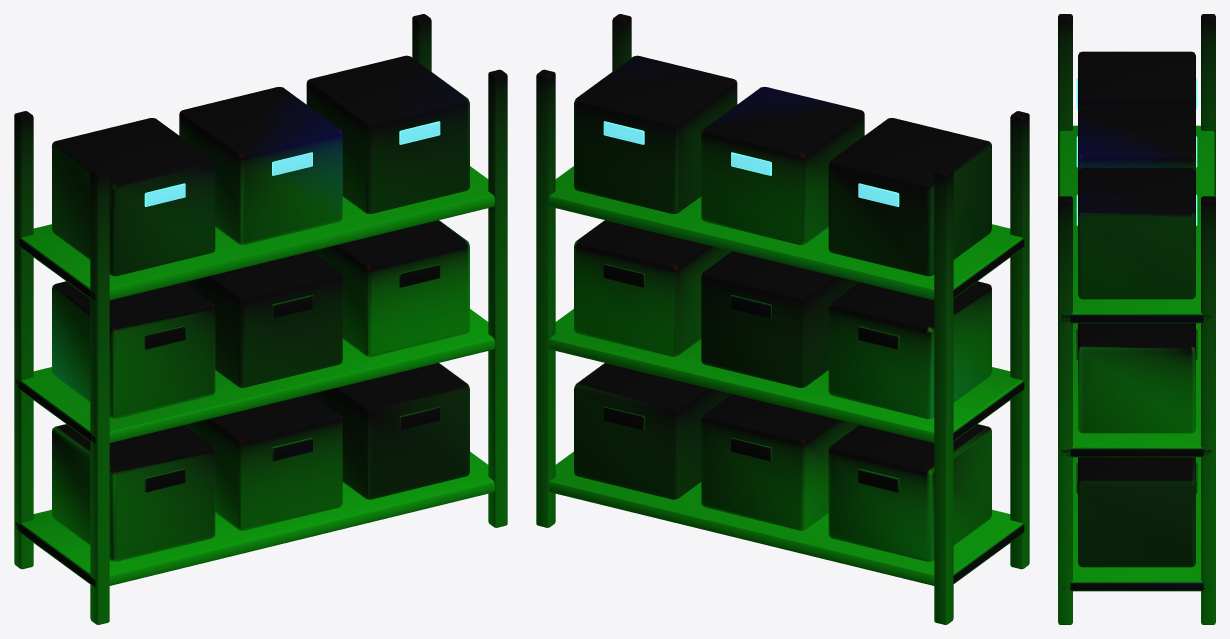
The model's file is hero_storage_rack.glb.
3 renders of one model, left to right at view 1: azimuth 30°, elevation 25°; view 2: azimuth 150°, elevation 25°; view 3: azimuth 270°, elevation 25°, orthographic. The views are drawn at different scales.
Visible parts, largest first — view 1: HeroStorageRack; view 2: HeroStorageRack; view 3: HeroStorageRack.
Part boxes in pixels (x1=…): HeroStorageRack: x1=14, y1=14, x2=507, y2=624; HeroStorageRack: x1=536, y1=14, x2=1029, y2=624; HeroStorageRack: x1=1058, y1=14, x2=1215, y2=624.
Bounding box in the file's own units: 3.62 × 3.8 × 1.28.
